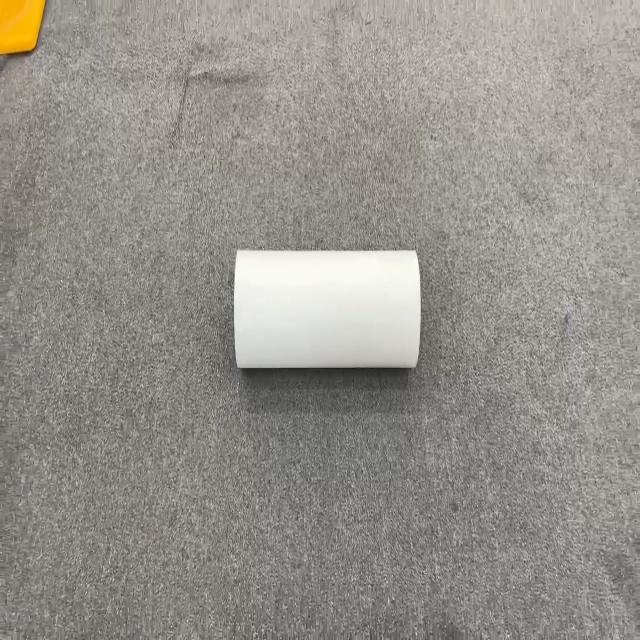coral: (233, 246, 422, 370)
